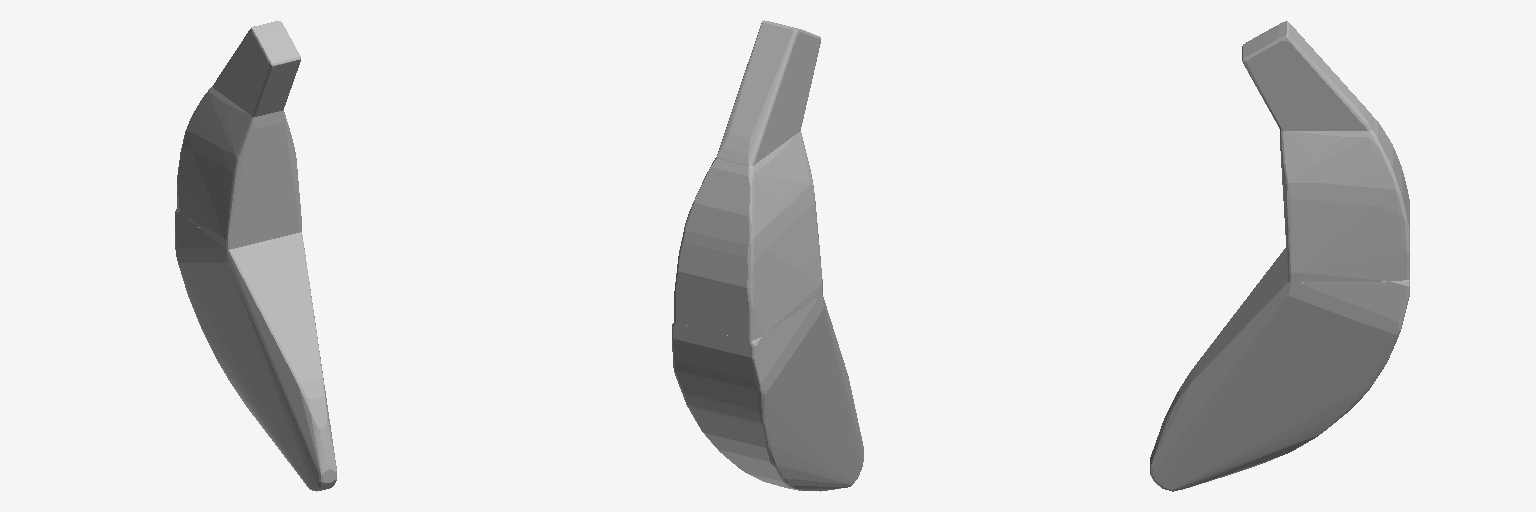
robot.urdf — root:
<?xml version="1.0"?>
<robot name="root">
  <link name="base_link">
    <visual>
      <origin xyz="0 0 0" rpy="0 0 0" />
      <geometry>
        <mesh filename="../meshes/unidex_sem_Fruit-5b102f0f4ceccf3aec8b4278552324cf_008.obj" scale="1.0000E+00 1.0000E+00 1.0000E+00" />
      </geometry>
      <material name="">
        <color rgba="7.50E-01 7.50E-01 7.50E-01 1" />
      </material>
    </visual>
    <collision>
      <origin xyz="0 0 0" rpy="0 0 0" />
      <geometry>
        <mesh filename="../meshes/unidex_sem_Fruit-5b102f0f4ceccf3aec8b4278552324cf_008.obj" scale="1.0000E+00 1.0000E+00 1.0000E+00" />
      </geometry>
    </collision>
  </link>
</robot>

--- Render facts (derived) ---
3 views of the same robot in one strip: view 1: azimuth 30°, elevation 25°; view 2: azimuth 150°, elevation 25°; view 3: azimuth 270°, elevation 25° (orthographic).
Robot: root — 1 links, 0 joints (none); root link base_link; default pose: all joints at 0.
Links seen in each view (by area): view 1: base_link; view 2: base_link; view 3: base_link.
Link boxes in pixels (left/top/right/bottom): base_link: left=175, top=21, right=336, bottom=491; base_link: left=672, top=20, right=863, bottom=491; base_link: left=1150, top=21, right=1409, bottom=491.
Size in the robot's own frame: 0.0265 by 0.0733 by 0.1431 metres.
1 mesh visuals loaded from 1 distinct referenced files (1 OBJ).
